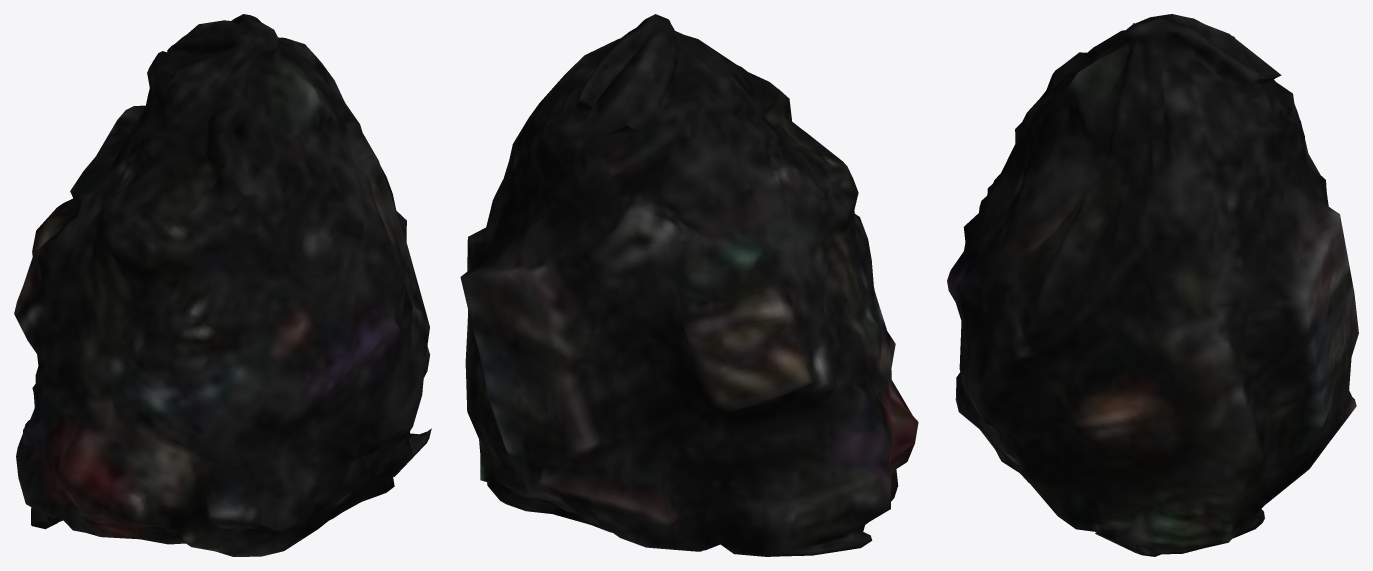
The model's file is trashbag.glb.
3 renders of one model, left to right at view 1: azimuth 30°, elevation 25°; view 2: azimuth 150°, elevation 25°; view 3: azimuth 270°, elevation 25°, orthographic. The views are drawn at different scales.
Visible parts, largest first — view 1: trashbag; view 2: trashbag; view 3: trashbag.
Boxes of the visible parts, <box> form: trashbag: <box>14,14,431,556</box>; trashbag: <box>460,14,918,556</box>; trashbag: <box>947,14,1358,556</box>.
Size of the model in its own units: 0.5281 by 0.575 by 0.4629.
Materials: 1 (1 with a texture image).
